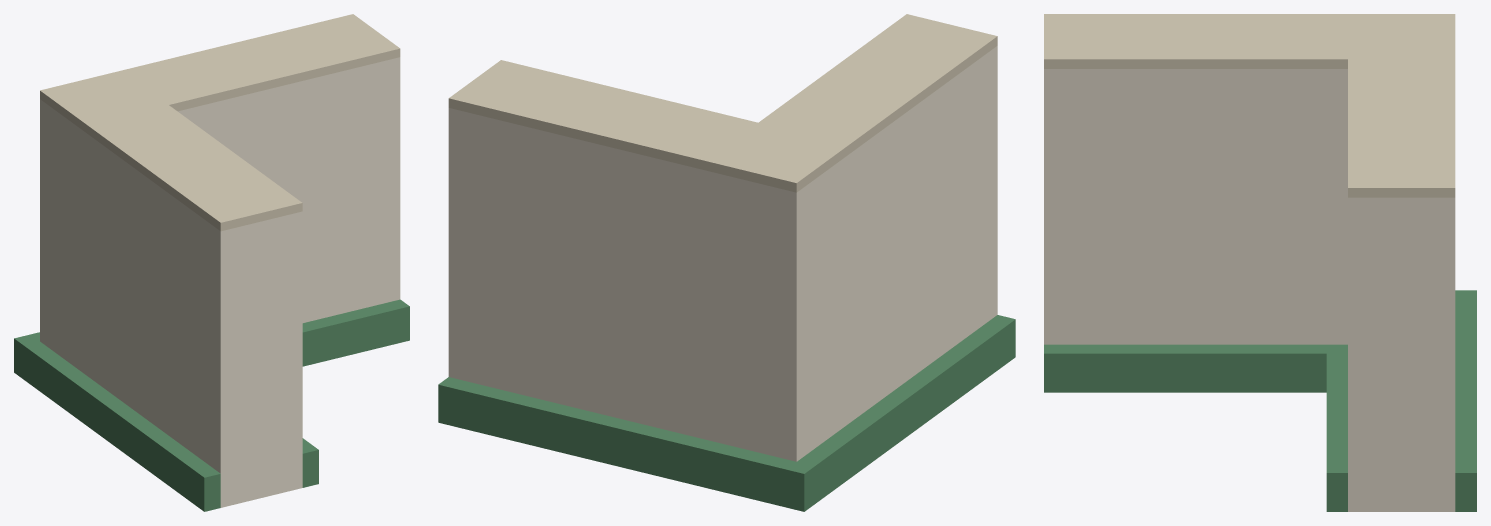
The model's file is partition-low-elbow.glb.
The picture shows the model from 3 angles, left to right: view 1: azimuth 30°, elevation 25°; view 2: azimuth 150°, elevation 25°; view 3: azimuth 270°, elevation 25°; orthographic projection. The views are drawn at different scales.
Parts seen in each view (by area): view 1: partition-low-elbow; view 2: partition-low-elbow; view 3: partition-low-elbow.
Part boxes in pixels (left/top/right/bottom): partition-low-elbow: left=14, top=14, right=409, bottom=511; partition-low-elbow: left=438, top=14, right=1015, bottom=511; partition-low-elbow: left=1044, top=14, right=1476, bottom=511.
Size of the model in its own units: 0.605 by 0.5 by 0.605.
Materials: 1 (1 with a texture image).
